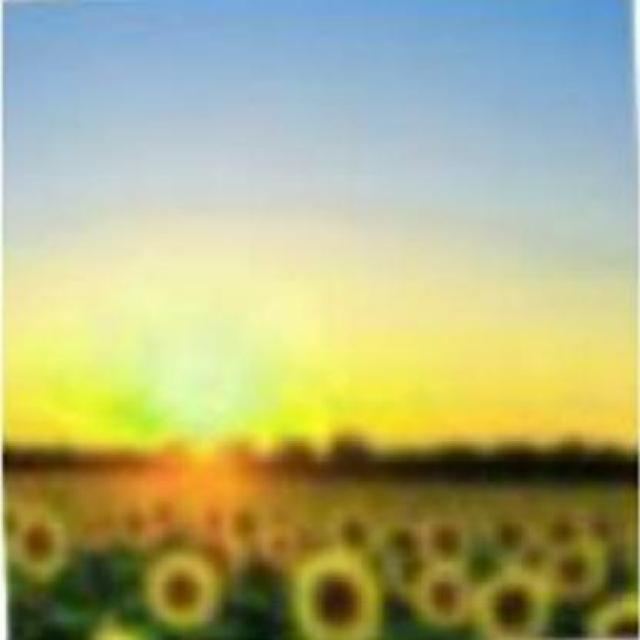sunflower: (144, 552, 222, 630)
